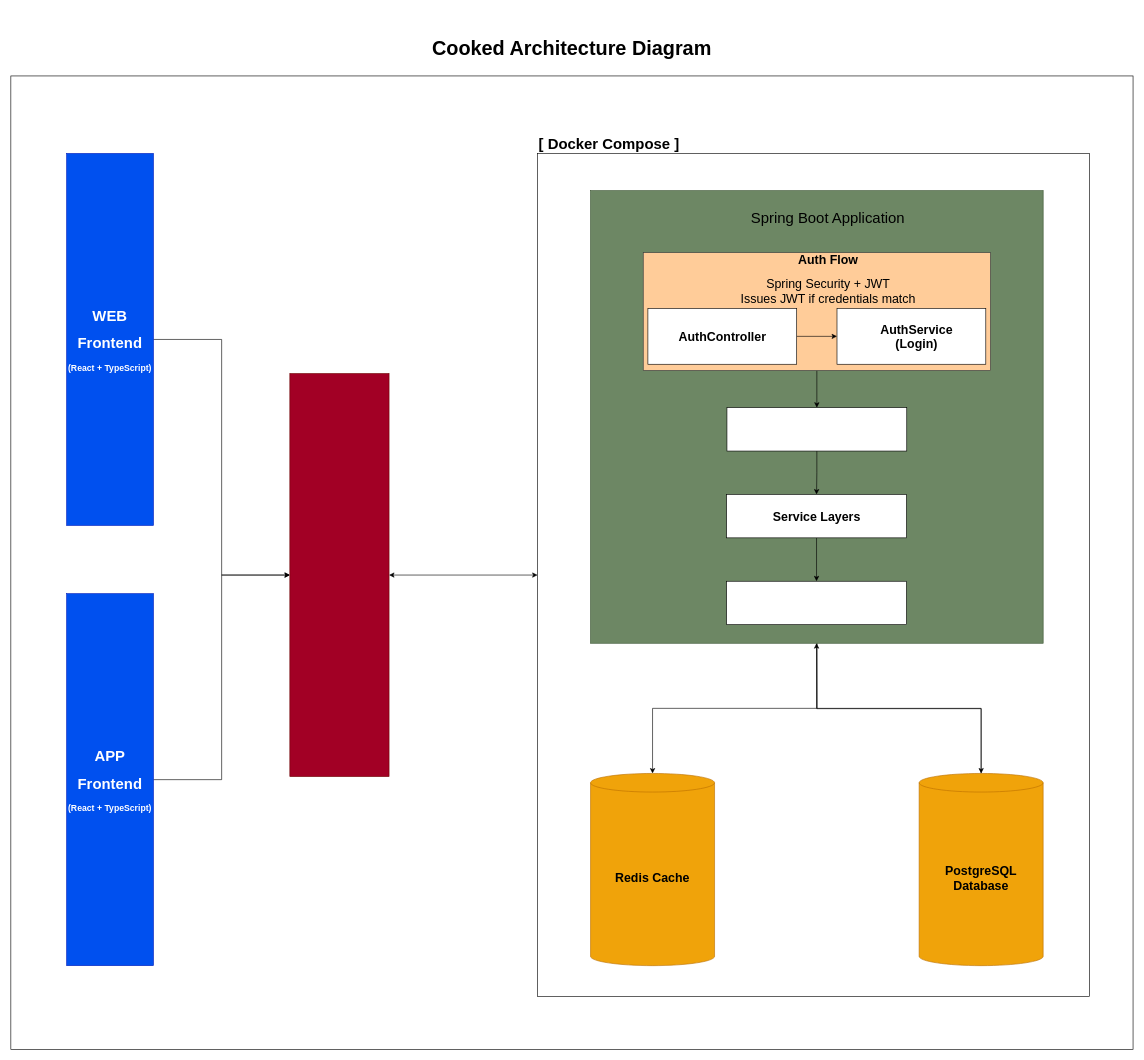
This 1144x1060 diagram has some shape labels left out. The shapes that lost their labels are listed below. From the top down, each one's centre as x and y in pixels, then its label:
the point at 816,429: Rest Controllers
the point at 339,575: Axios Shared HTTP Client
the point at 816,603: Repositories
